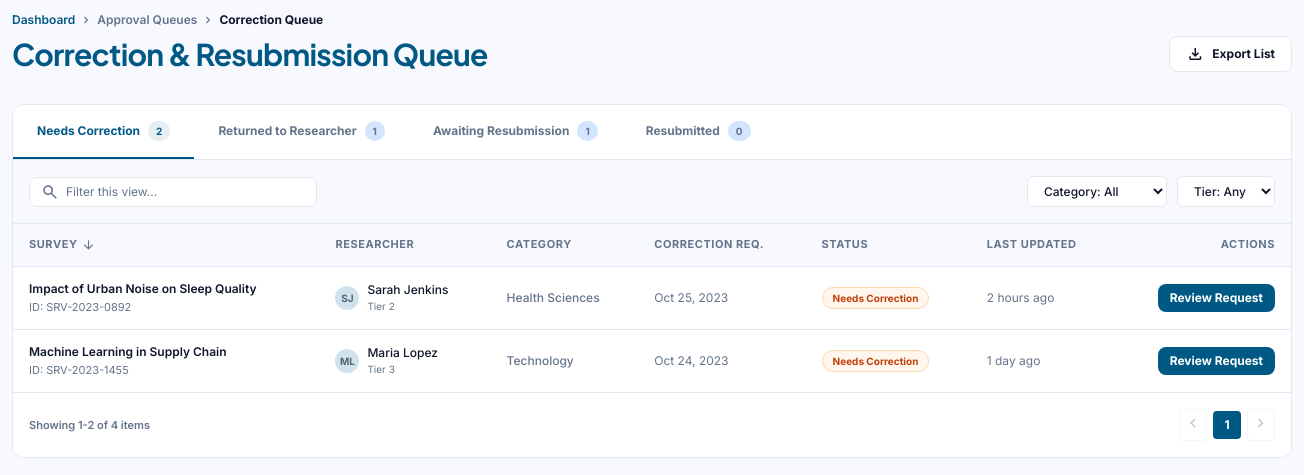
it: Ethosk - Returned / Correction Queue (Stitch Screen deab2b40fd78484db04a418c941de186) › filters items by search keyword
This screenshot has width=1304, height=475.
Type "Urban Noise" into the field with placeholder "Filter this view...".
click(173, 192); type("Urban Noise")  # box left=29, top=176, right=317, bottom=206
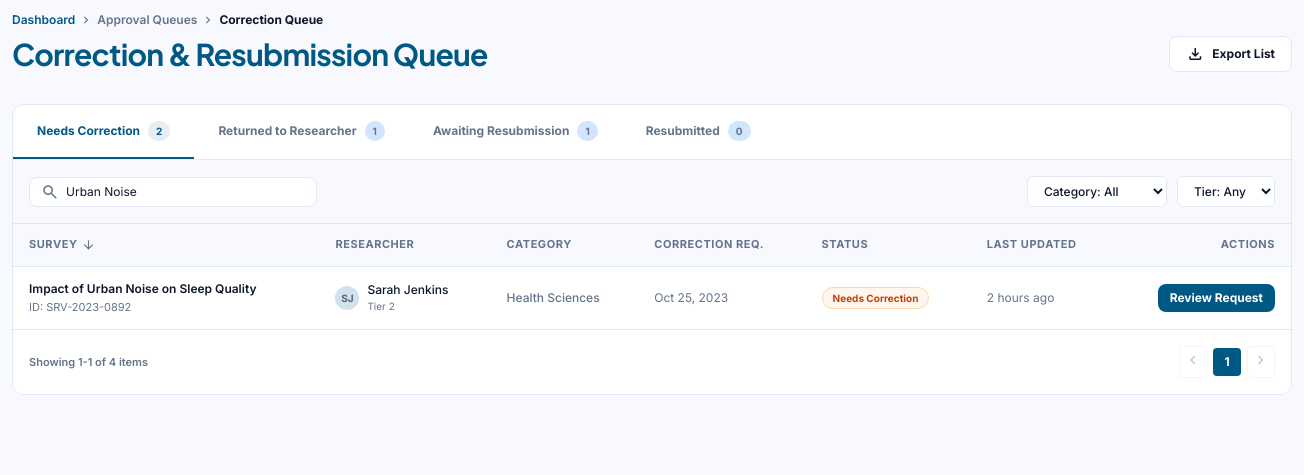
Check: the text "Impact of Urban Noise on Sleep Quality" is shown, box left=29, top=281, right=269, bottom=297
Check: the text "Machine Learning in Supply Chain" is gone
